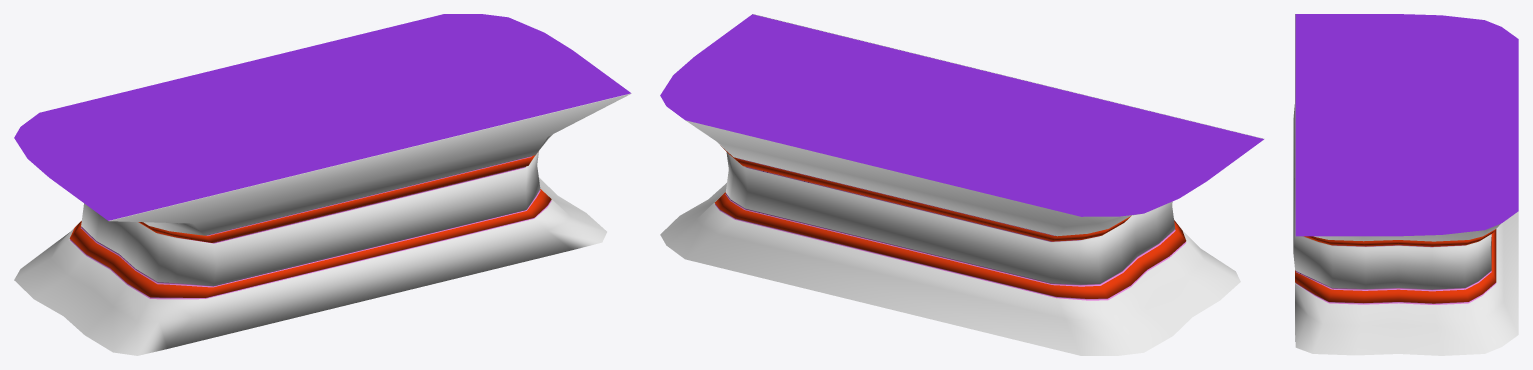
File: MesaMedPParedL1.fbx
3 views of the same model, side by side, from view 1: azimuth 30°, elevation 25°; view 2: azimuth 150°, elevation 25°; view 3: azimuth 270°, elevation 25° (orthographic). The views are drawn at different scales.
Parts seen in each view (by area): view 1: MesaMedPParedL1; view 2: MesaMedPParedL1; view 3: MesaMedPParedL1.
Boxes of the visible parts, bbox=[...] form: MesaMedPParedL1: bbox=[14, 14, 631, 355]; MesaMedPParedL1: bbox=[660, 14, 1264, 355]; MesaMedPParedL1: bbox=[1293, 14, 1518, 355].
Size of the model in its own units: 381 by 98.9 by 163.
